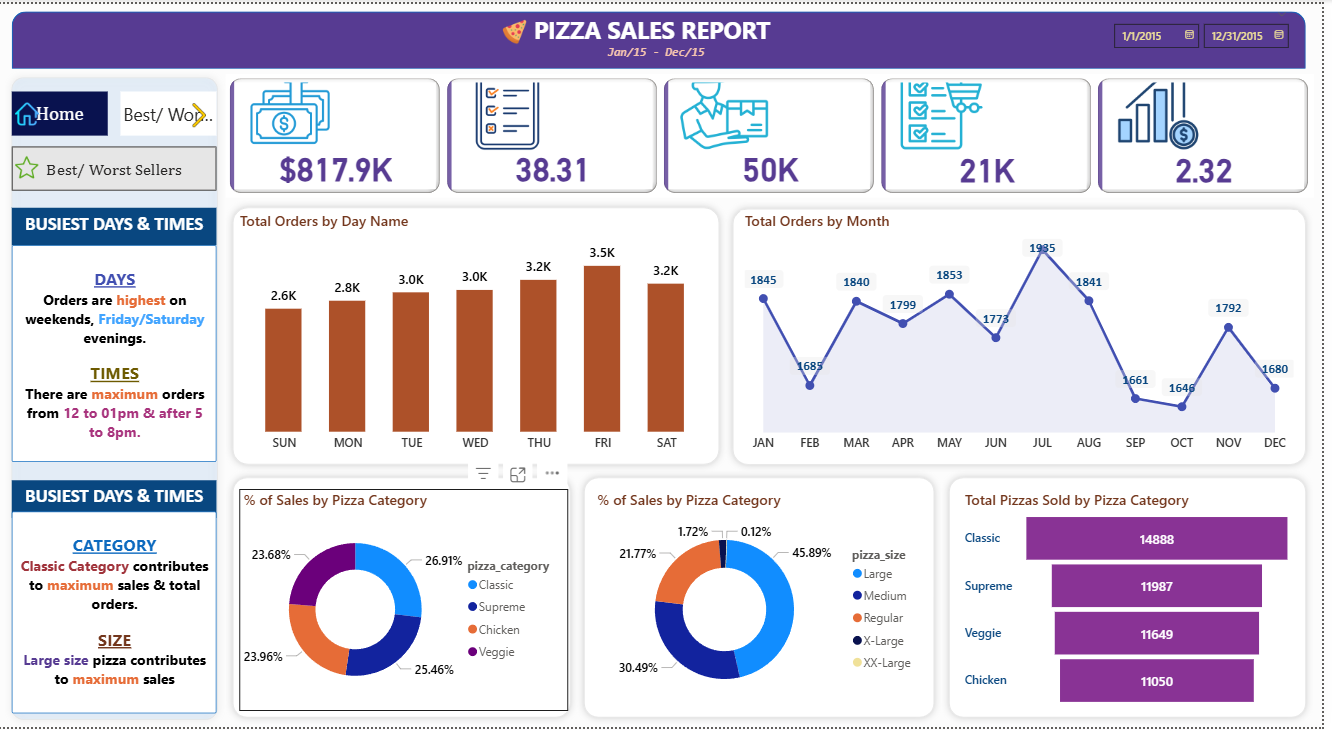

The page's visual inventory and layout, read from the dashboard file:
{"tool":"powerbi","page":{"name":"Home","canvas":[1500,820],"ordinal":0},"visuals":[{"type":"shape","box":[15.5,8.5,1466.6,65],"z":0},{"type":"textbox","box":[601.9,5.4,295.5,44.9],"z":1000},{"type":"image","box":[566.5,12.3,38.1,38.1],"z":2000},{"type":"slicer","fields":{"Values":["pizza_sales.order_date"]},"box":[1252.5,3.9,220.1,73.4],"z":6000},{"type":"textbox","box":[686.3,39.5,128,30],"z":7000},{"type":"shape","box":[7.2,74.5,250.1,744.2],"z":8000},{"type":"shape","box":[257.4,222,567.8,307.7],"z":9000},{"type":"cardVisual","fields":{"Data":["pizza_sales.Total Revenue","pizza_sales.Avg Order Value","pizza_sales.Total Pizzas Sold","pizza_sales.Total Orders","pizza_sales.Avg Pizzas Per Order"]},"box":[257.5,79.8,1233.2,140.3],"z":10000},{"type":"shape","box":[257.5,529.1,399.1,288.4],"z":11000},{"type":"shape","box":[825.2,223.3,665.9,306.4],"z":12000},{"type":"areaChart","fields":{"Category":["pizza_sales.Month"],"Y":["pizza_sales.Total Orders"]},"box":[841.9,234.3,632.1,283.2],"z":13000},{"type":"columnChart","fields":{"Y":["pizza_sales.Total Orders"],"Category":["pizza_sales.Day Name"]},"box":[269,234.3,544.5,283.2],"z":14000},{"type":"shape","box":[656.5,529.1,413.2,288.4],"z":15000},{"type":"shape","box":[1069.7,529.1,420.9,288.4],"z":16000},{"type":"donutChart","title":"% of Sales by Pizza Category","fields":{"Category":["pizza_sales.pizza_category"],"Y":["pizza_sales.Total Revenue"]},"box":[273.3,550.2,372.4,251.8],"z":17000},{"type":"donutChart","title":"% of Sales by Pizza Category","fields":{"Y":["pizza_sales.Total Revenue"],"Category":["pizza_sales.pizza_size"]},"box":[674.4,550.2,378.4,251.8],"z":18000},{"type":"funnel","title":"Total Pizzas Sold by Pizza Category","fields":{"Category":["pizza_sales.pizza_category"],"Y":["pizza_sales.Total Pizzas Sold"]},"box":[1090.9,550.2,380.8,251.8],"z":19000},{"type":"pageNavigator","box":[15.6,161.1,232,50.5],"z":20000},{"type":"textbox","box":[15.6,272.9,232,245.3],"z":21000},{"type":"textbox","box":[15.4,230.4,231.7,42.5],"z":22000},{"type":"textbox","box":[15.4,539.4,231.7,42.5],"z":23000},{"type":"textbox","box":[15.4,575.4,231.7,229.1],"z":24000},{"type":"pageNavigator","box":[15.6,99.8,232,50.5],"z":25000},{"type":"image","box":[11.6,106.8,43.8,37.3],"z":26000},{"type":"image","box":[209.8,108.1,37.3,37.3],"z":27000},{"type":"image","box":[11.6,167.3,42.5,36],"z":28000}]}

Visuals, with their boxes in screenshot pixels (x1, y1, x2, y2), scaled from the page's 1500x820 canvas onto the 1332x730 screenshot:
shape: bbox=(14, 8, 1316, 65)
textbox: bbox=(534, 5, 797, 45)
image: bbox=(503, 11, 537, 45)
slicer - pizza_sales.order_date: bbox=(1112, 3, 1308, 69)
textbox: bbox=(609, 35, 723, 62)
shape: bbox=(6, 66, 228, 729)
shape: bbox=(229, 198, 733, 472)
cardVisual - pizza_sales.Total Revenue x pizza_sales.Avg Order Value: bbox=(229, 71, 1324, 196)
shape: bbox=(229, 471, 583, 728)
shape: bbox=(733, 199, 1324, 472)
areaChart - pizza_sales.Month x pizza_sales.Total Orders: bbox=(748, 209, 1309, 461)
columnChart - pizza_sales.Total Orders x pizza_sales.Day Name: bbox=(239, 209, 722, 461)
shape: bbox=(583, 471, 950, 728)
shape: bbox=(950, 471, 1324, 728)
"% of Sales by Pizza Category" donutChart: bbox=(243, 490, 573, 714)
"% of Sales by Pizza Category" donutChart: bbox=(599, 490, 935, 714)
"Total Pizzas Sold by Pizza Category" funnel: bbox=(969, 490, 1307, 714)
pageNavigator: bbox=(14, 143, 220, 188)
textbox: bbox=(14, 243, 220, 461)
textbox: bbox=(14, 205, 219, 243)
textbox: bbox=(14, 480, 219, 518)
textbox: bbox=(14, 512, 219, 716)
pageNavigator: bbox=(14, 89, 220, 134)
image: bbox=(10, 95, 49, 128)
image: bbox=(186, 96, 219, 129)
image: bbox=(10, 149, 48, 181)
